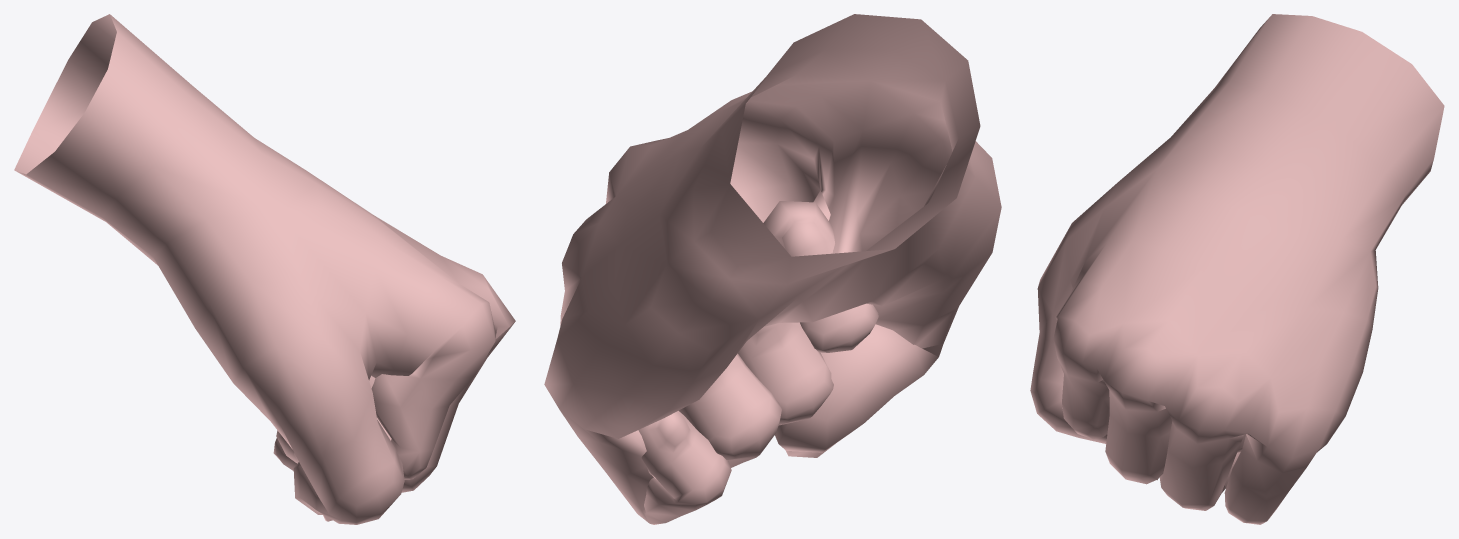
The model's file is Anime_Male_A_Fist01.fbx.
3 renders of one model, left to right at view 1: azimuth 30°, elevation 25°; view 2: azimuth 150°, elevation 25°; view 3: azimuth 270°, elevation 25°, orthographic. The views are drawn at different scales.
Parts seen in each view (by area): view 1: Anime_Male_A_Fist01; view 2: Anime_Male_A_Fist01; view 3: Anime_Male_A_Fist01.
Boxes of the visible parts, x1,y1,x2,y2 form: Anime_Male_A_Fist01: [14, 14, 515, 524]; Anime_Male_A_Fist01: [544, 14, 1001, 524]; Anime_Male_A_Fist01: [1030, 14, 1444, 524].
Bounding box in the file's own units: 0.5696 × 0.6881 × 0.6061.
